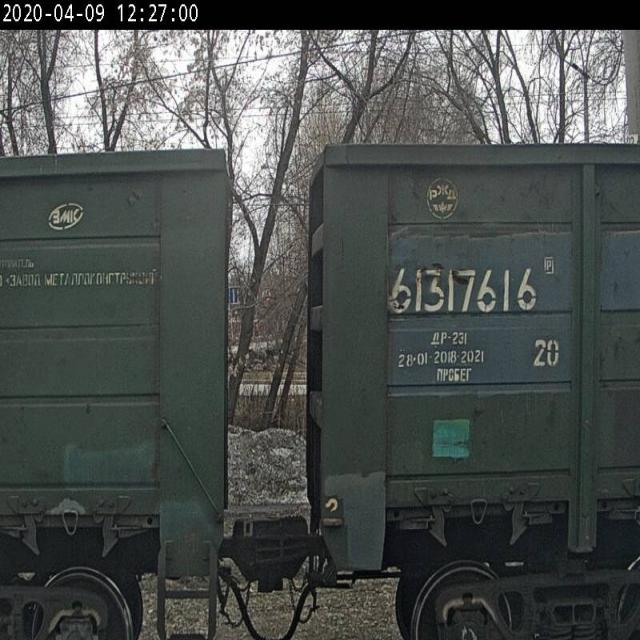gondola: (297, 124, 640, 640), (0, 139, 239, 640)
